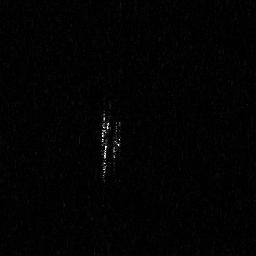ship: (98, 100, 125, 190)
